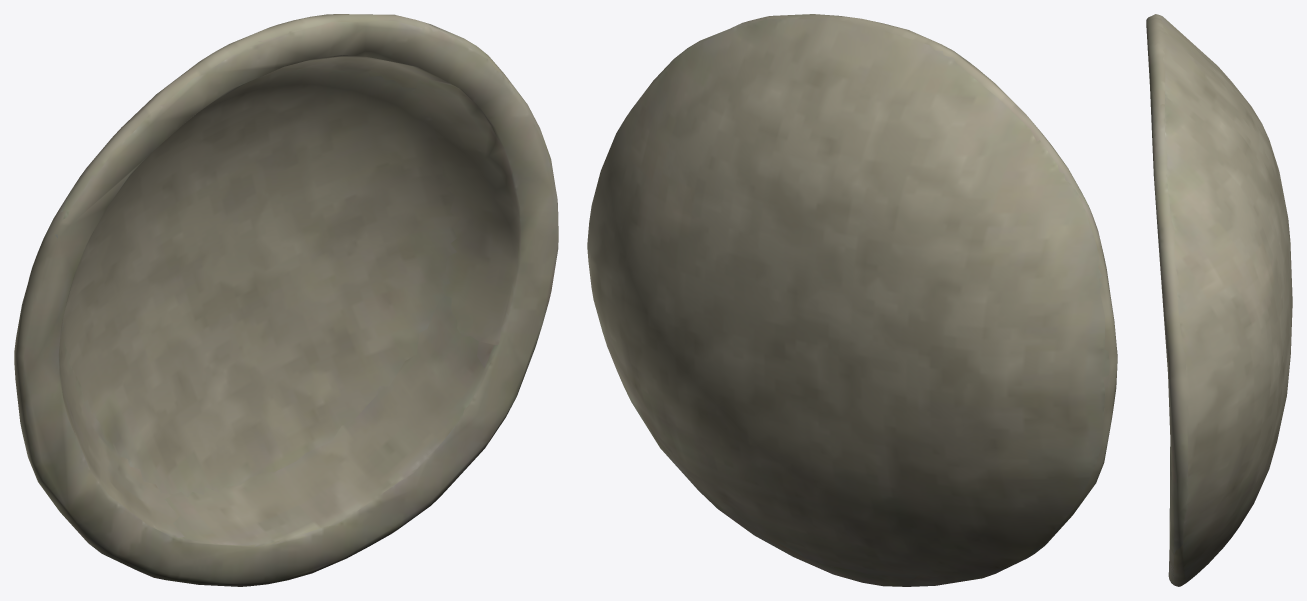
File: chipped-limestone-basin-v001.glb
3 views of the same model, side by side, from view 1: azimuth 30°, elevation 25°; view 2: azimuth 150°, elevation 25°; view 3: azimuth 270°, elevation 25° (orthographic). The views are drawn at different scales.
Visible parts, largest first — view 1: chipped-limestone-basin; view 2: chipped-limestone-basin; view 3: chipped-limestone-basin.
Boxes of the visible parts, bbox=[...] form: chipped-limestone-basin: bbox=[14, 14, 558, 586]; chipped-limestone-basin: bbox=[587, 14, 1117, 586]; chipped-limestone-basin: bbox=[1146, 14, 1292, 586].
Bounding box in the file's own units: 0.3597 × 0.3599 × 0.092.
Materials: 1 (1 with a texture image).
